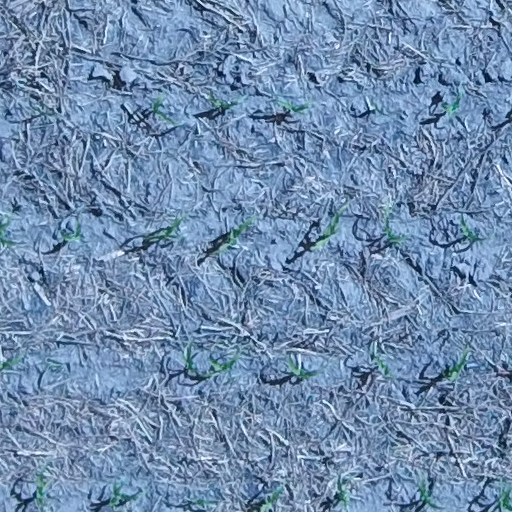planta: (309, 204, 348, 253), (214, 214, 258, 256), (147, 212, 188, 244), (201, 350, 242, 380), (380, 204, 407, 248), (148, 93, 180, 128), (105, 480, 140, 511), (443, 347, 471, 383), (284, 355, 320, 382), (368, 344, 394, 379), (31, 465, 51, 510), (439, 88, 467, 118), (273, 96, 313, 116), (206, 91, 243, 112), (457, 216, 482, 245), (58, 219, 85, 245), (179, 340, 198, 374)
